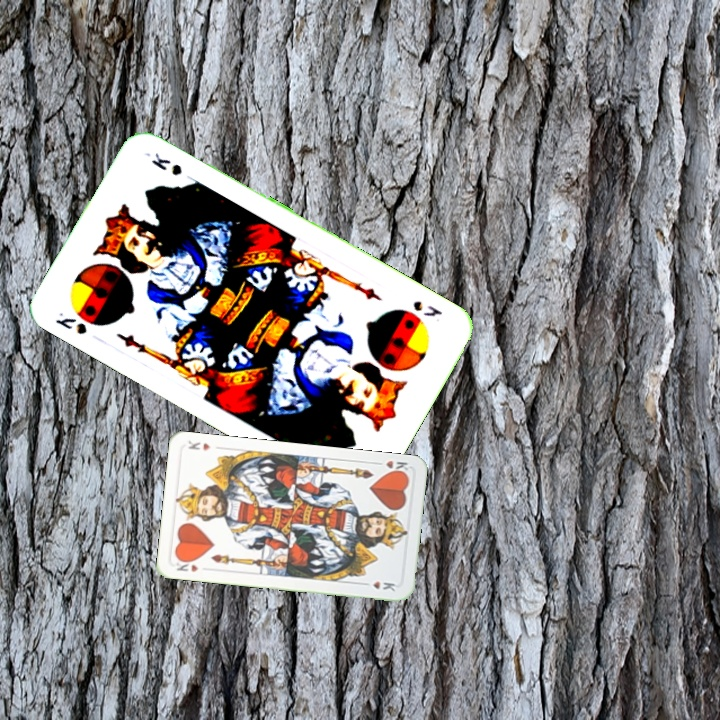HK: (371, 456, 411, 477), (172, 558, 201, 575)
SK: (51, 308, 90, 338), (409, 296, 445, 320)
